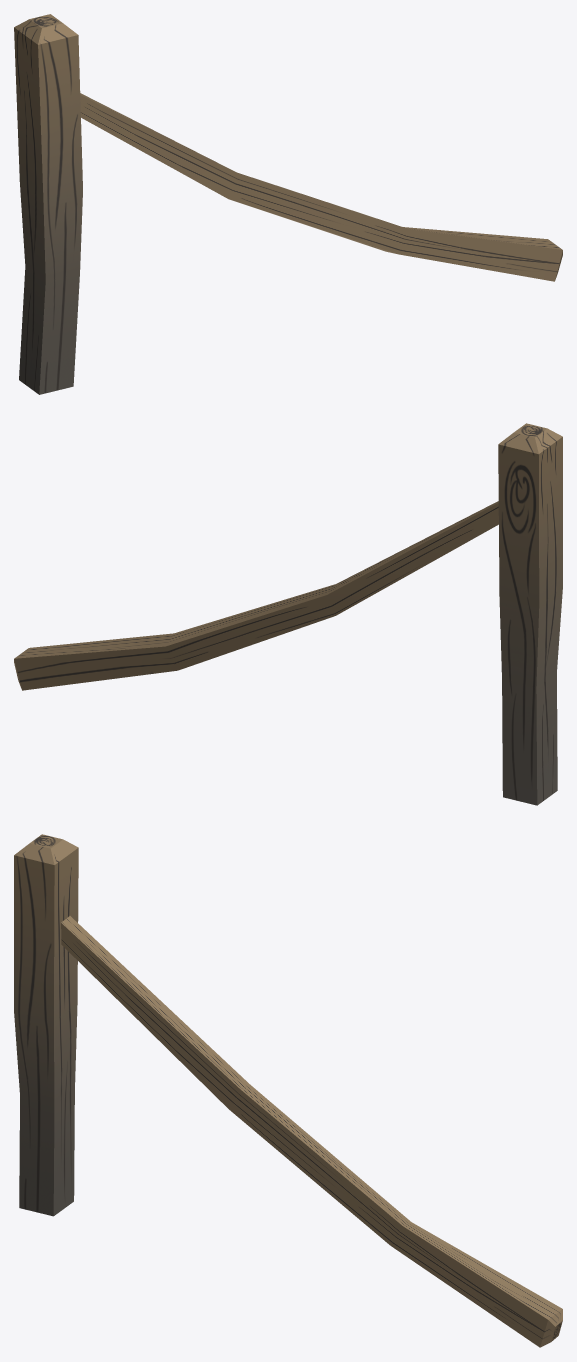
File: FenceEnd.fbx
3 views of the same model, one above another, from view 1: azimuth 30°, elevation 25°; view 2: azimuth 150°, elevation 25°; view 3: azimuth 330°, elevation 25° (orthographic).
Parts seen in each view (by area): view 1: pCylinder45; view 2: pCylinder45; view 3: pCylinder45.
Boxes of the visible parts, x1,y1,x2,y2 form: pCylinder45: [14, 14, 562, 394]; pCylinder45: [14, 423, 562, 805]; pCylinder45: [14, 834, 562, 1347].
Size of the model in its own units: 1.83 by 1.23 by 0.1586.
